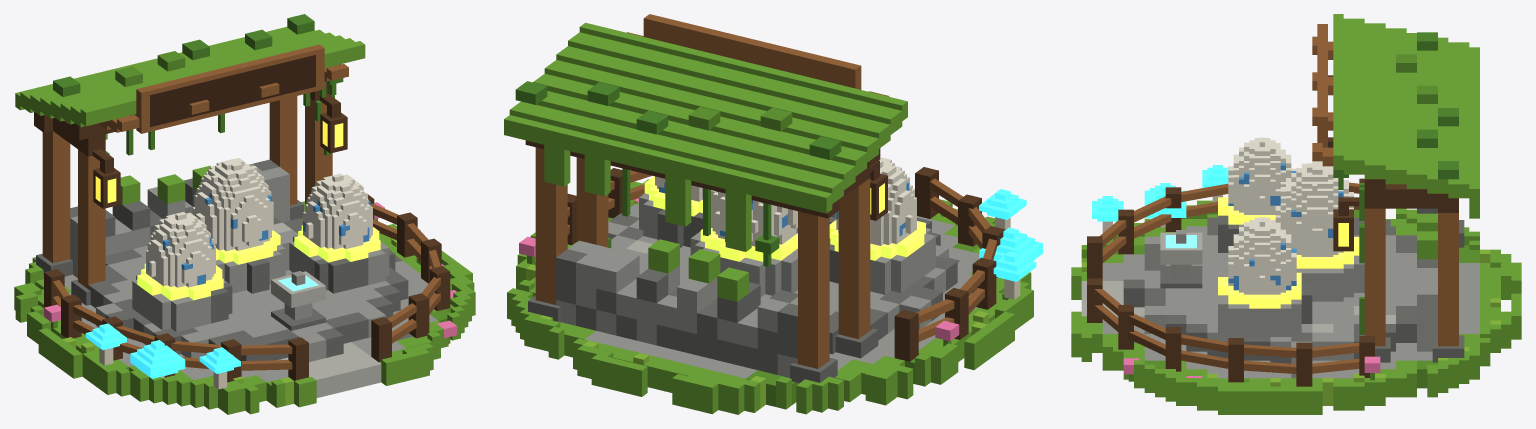
Rendered from Lobby_EggHatchery.glb.
3 renders of one model, left to right at view 1: azimuth 30°, elevation 25°; view 2: azimuth 150°, elevation 25°; view 3: azimuth 270°, elevation 25°, orthographic. The views are drawn at different scales.
Visible parts, largest first — view 1: Platform_Moss, Frame_Wood, Platform_Stone, Roof_Moss, Fence_WoodDark, Platform_StoneDark, Egg_Middle_EggCream, Fence_Wood, SignPanel_SignBoard, Egg_Left_EggCream, Egg_Right_EggCream, Sign_Wood (+28 smaller); view 2: Roof_Moss, Platform_Moss, Frame_Wood, BackWall_Stone, BackWall_StoneDark, Platform_Stone, Fence_WoodDark, Sign_Wood, Fence_Wood, Mushrooms_Mushroom_Emissive, Platform_StoneDark, BackWall_Moss (+18 smaller); view 3: Roof_Moss, Platform_Moss, Platform_Stone, Fence_Wood, Frame_Wood, Fence_WoodDark, Platform_StoneDark, Egg_Middle_EggCream, Egg_Right_EggCream, Egg_Left_EggCream, Pedestal_Right_Stone, Frame_WoodDark (+22 smaller).
Part boxes in pixels (<box>): Platform_Moss: <box>14,201,475,414</box>; Frame_Wood: <box>42,64,348,288</box>; Platform_Stone: <box>64,230,437,382</box>; Roof_Moss: <box>15,27,365,139</box>; Fence_WoodDark: <box>44,193,450,382</box>; Platform_StoneDark: <box>88,216,412,368</box>; Egg_Middle_EggCream: <box>192,158,273,251</box>; Fence_Wood: <box>53,203,440,370</box>; SignPanel_SignBoard: <box>150,55,315,126</box>; Egg_Left_EggCream: <box>146,212,215,287</box>; Egg_Right_EggCream: <box>303,173,372,249</box>; Sign_Wood: <box>136,44,324,133</box>; Roof_Moss: <box>504,22,907,251</box>; Platform_Moss: <box>507,179,1033,414</box>; Frame_Wood: <box>535,32,889,368</box>; BackWall_Stone: <box>556,240,797,377</box>; BackWall_StoneDark: <box>556,249,797,374</box>; Platform_Stone: <box>585,204,997,378</box>; Fence_WoodDark: <box>567,167,1005,361</box>; Sign_Wood: <box>643,14,861,89</box>; Fence_Wood: <box>567,170,996,341</box>; Mushrooms_Mushroom_Emissive: <box>979,189,1042,281</box>; Platform_StoneDark: <box>609,213,960,354</box>; BackWall_Moss: <box>648,239,748,301</box>; Roof_Moss: <box>1333,14,1479,218</box>; Platform_Moss: <box>1071,200,1521,414</box>; Platform_Stone: <box>1102,226,1479,378</box>; Fence_Wood: <box>1094,182,1359,373</box>; Frame_Wood: <box>1312,36,1458,346</box>; Fence_WoodDark: <box>1087,178,1374,386</box>; Platform_StoneDark: <box>1123,217,1416,378</box>; Egg_Middle_EggCream: <box>1275,161,1353,256</box>; Egg_Right_EggCream: <box>1228,217,1296,294</box>; Egg_Left_EggCream: <box>1228,137,1296,214</box>; Pedestal_Right_Stone: <box>1218,295,1301,336</box>; Frame_WoodDark: <box>1364,179,1458,212</box>.
Bounding box in the file's own units: 5.5 × 3.25 × 5.38.
